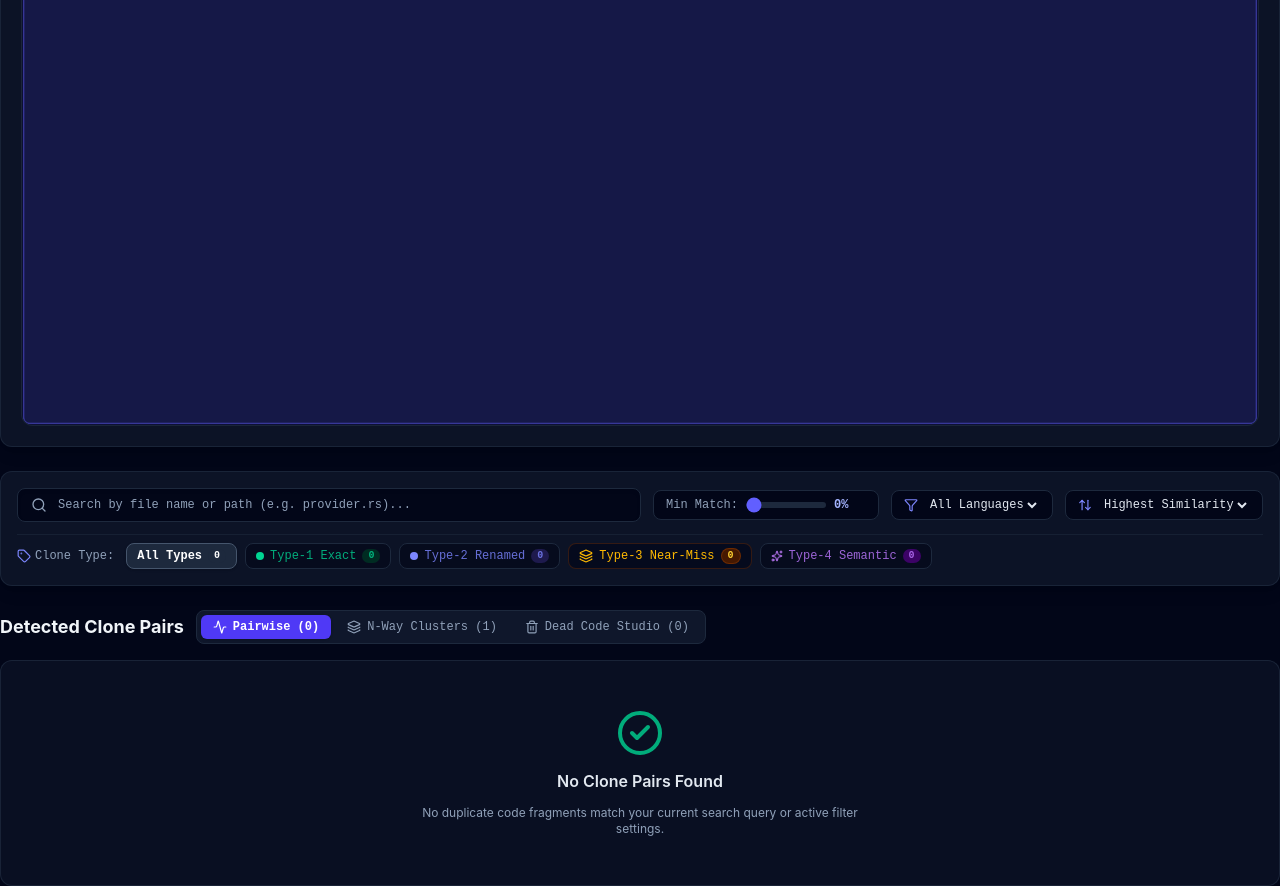
it: ScanResults Component › should allow toggling between pairwise and N-way clusters view
(page scrolled)
Click the button "N-Way Clusters (1)". click: coordinates (422, 627)
box: [335,615,509,639]
(page scrolled)
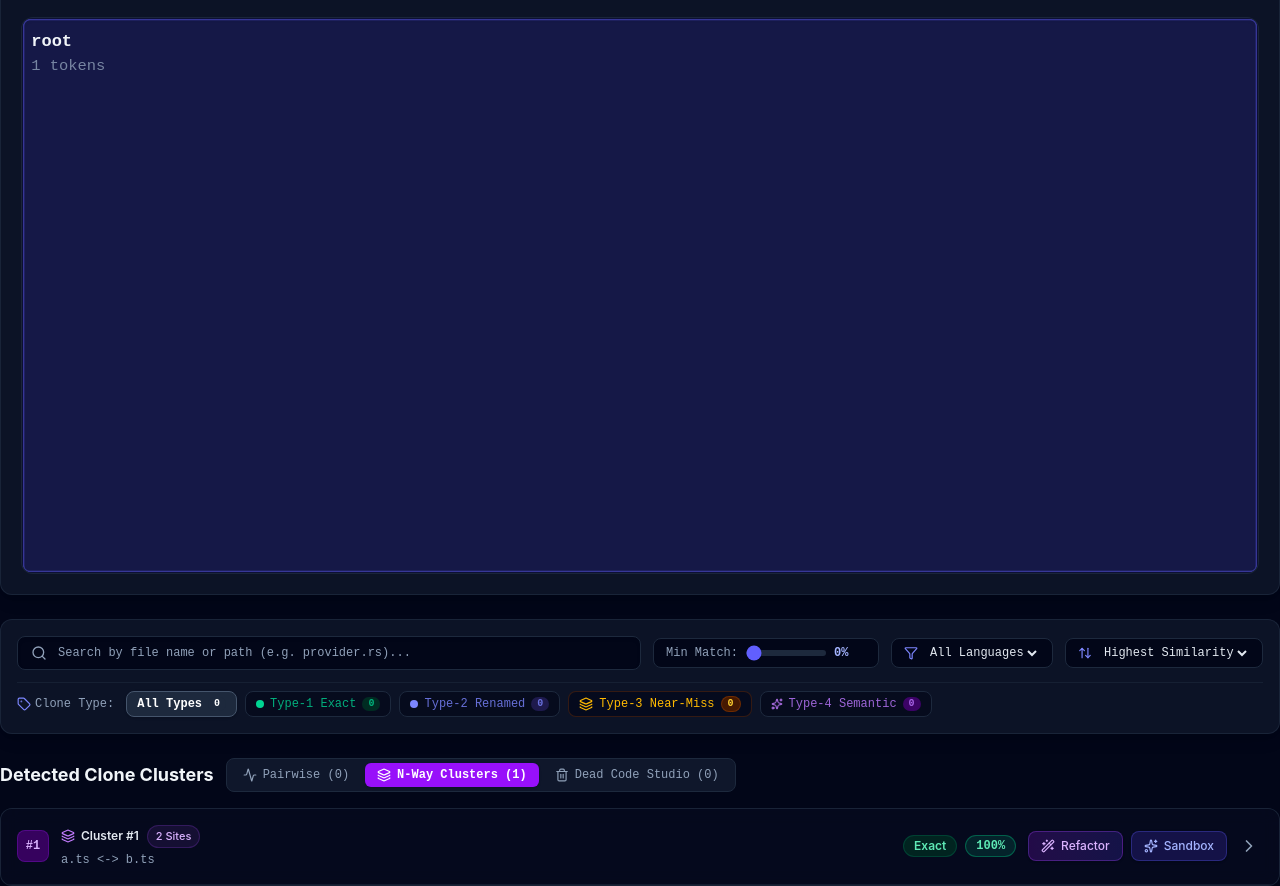
Check: the text "Cluster #1" is shown, box [61,828,139,844]
